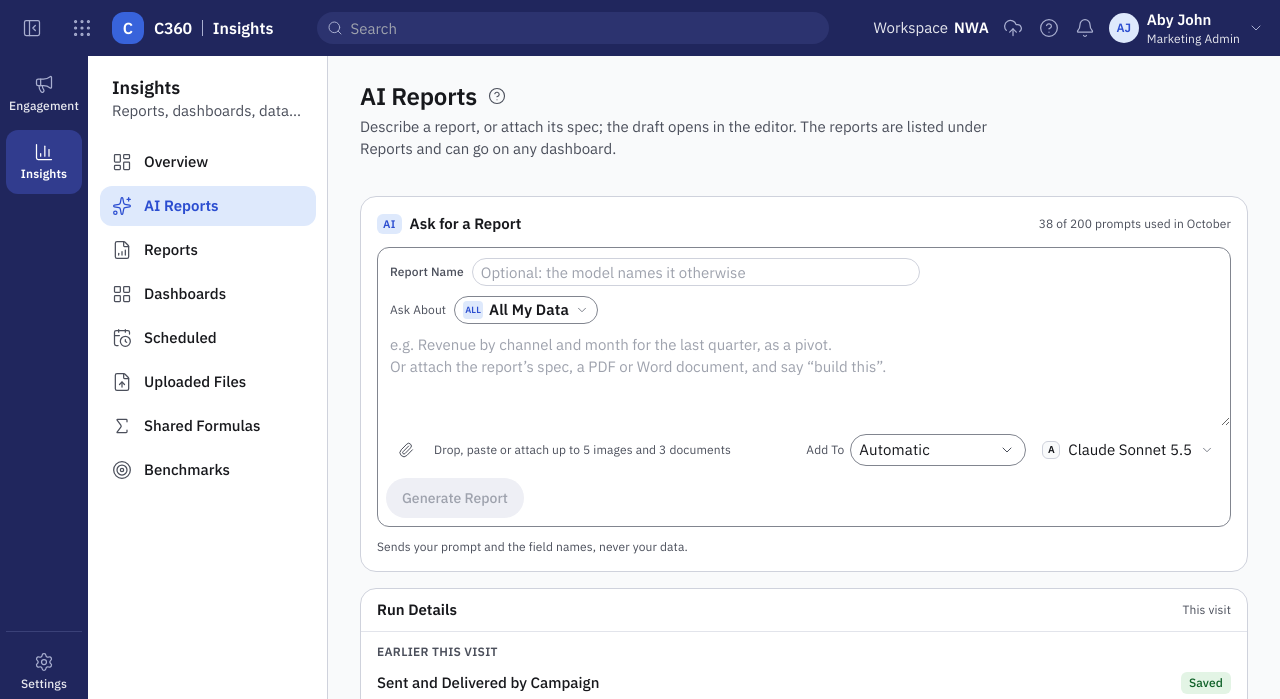
Test: a question back offers its answers as buttons, and an answer is sent as the next prompt without a count
In the text box named "What do you want to see?": (804, 375) top-left (378, 324), bottom-right (1230, 426), type "Which campaigns made the most revenue last month?"
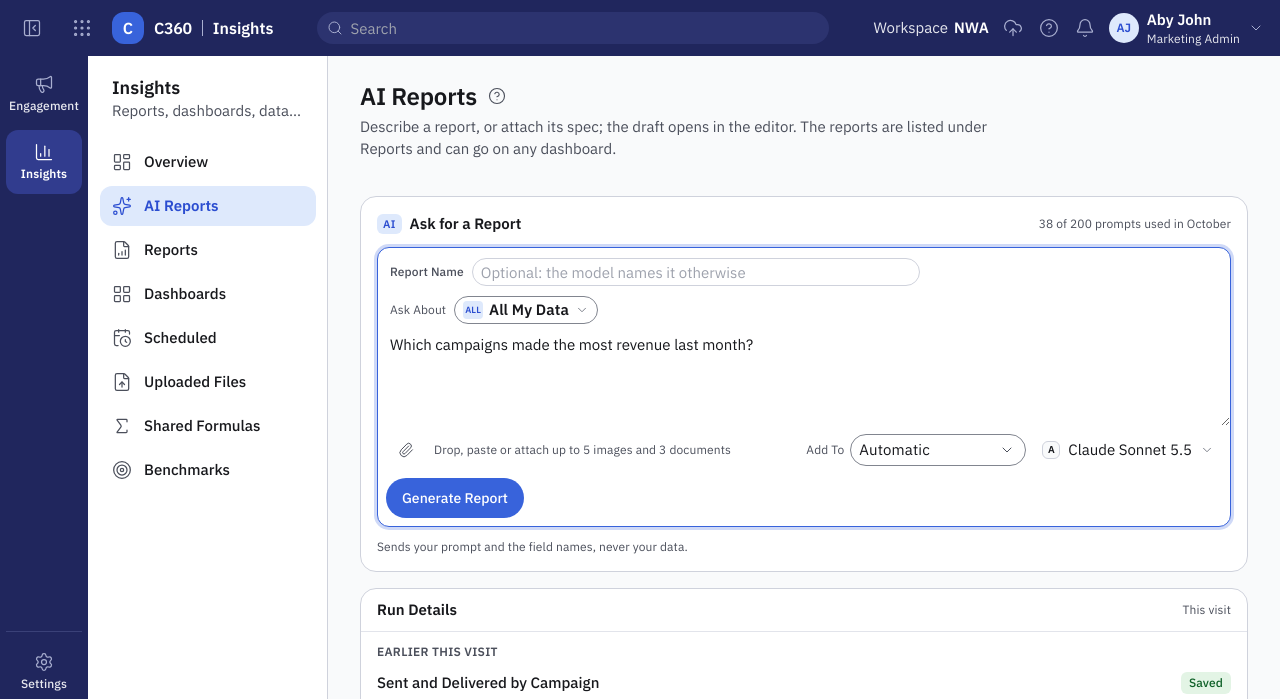
Click the button "Generate Report": (455, 498) top-left (386, 478), bottom-right (524, 518)
(page scrolled)
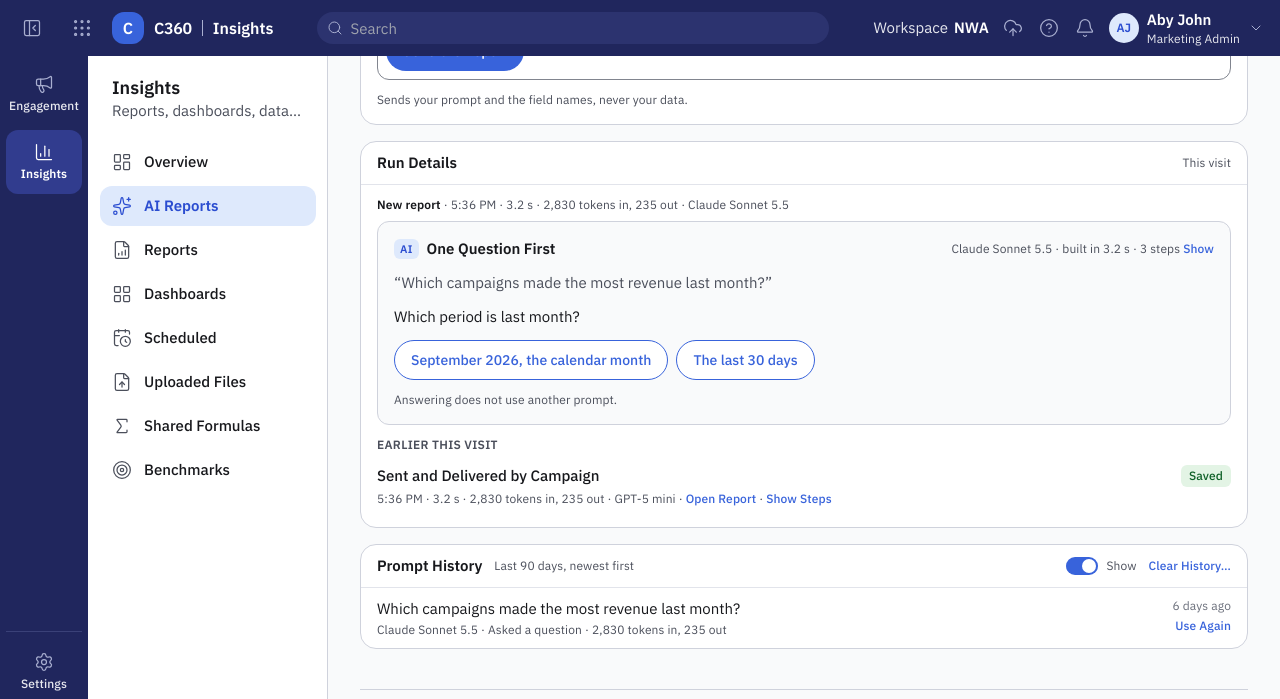
Check: the text "Which period is last month?" is shown, box top-left (394, 307), bottom-right (580, 326)
Click the button "September 2026, the calendar month": (531, 360) top-left (394, 340), bottom-right (668, 380)
(page scrolled)
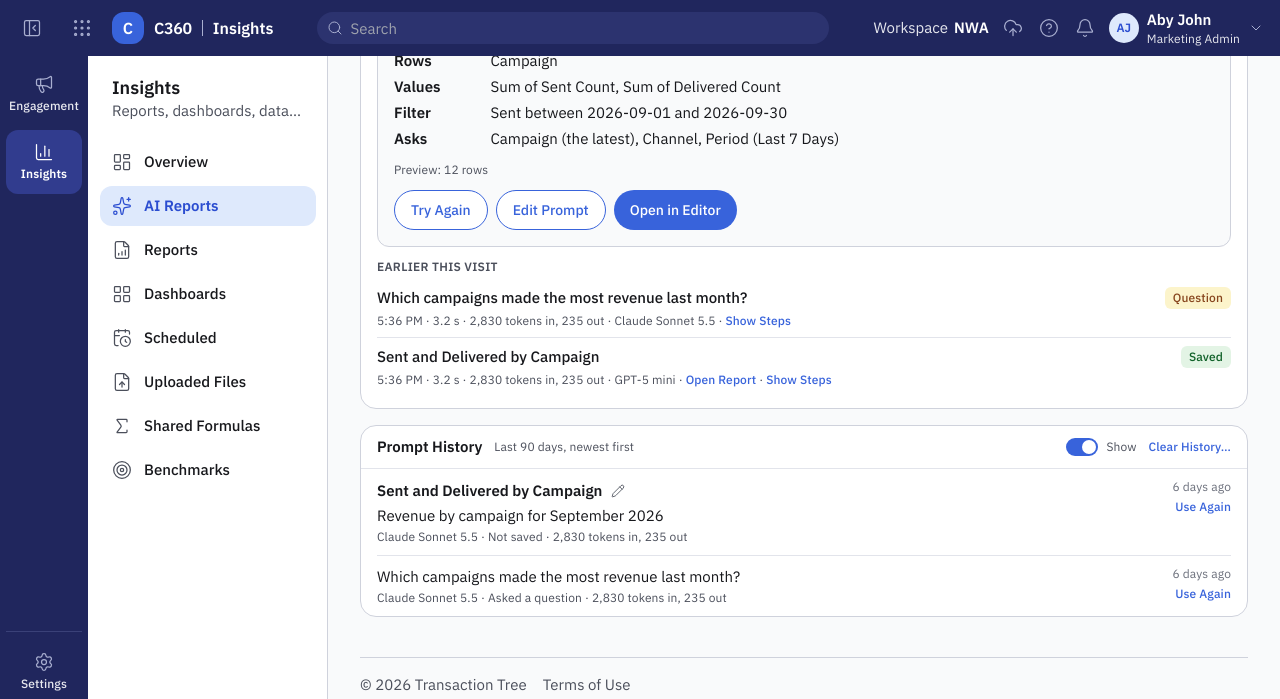
Check: the text "Revenue by campaign for September 2026" is shown, box top-left (377, 506), bottom-right (664, 525)
